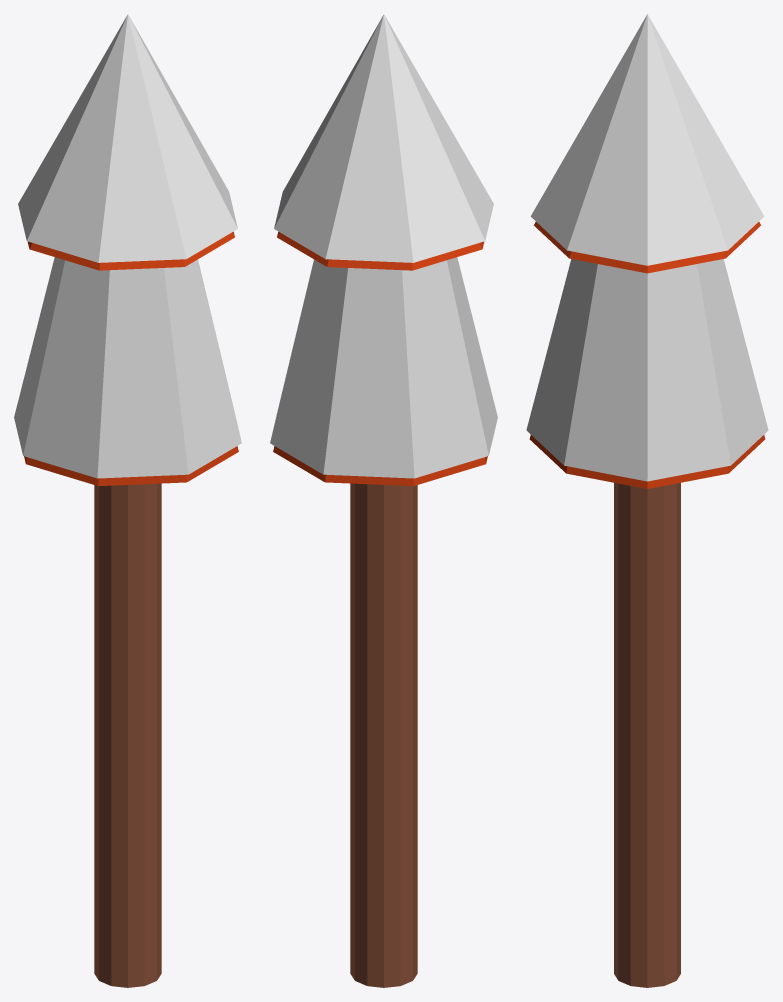
Rendered from Tree_21_winter_red.fbx.
3 renders of one model, left to right at view 1: azimuth 30°, elevation 25°; view 2: azimuth 150°, elevation 25°; view 3: azimuth 270°, elevation 25°, orthographic.
Visible parts, largest first — view 1: Tree_21_winter_red; view 2: Tree_21_winter_red; view 3: Tree_21_winter_red.
Boxes of the visible parts, x1,y1,x2,y2 form: Tree_21_winter_red: (14,14,241,987); Tree_21_winter_red: (270,14,497,987); Tree_21_winter_red: (526,14,768,987).
Size of the model in its own units: 80.03 by 350 by 80.03.
